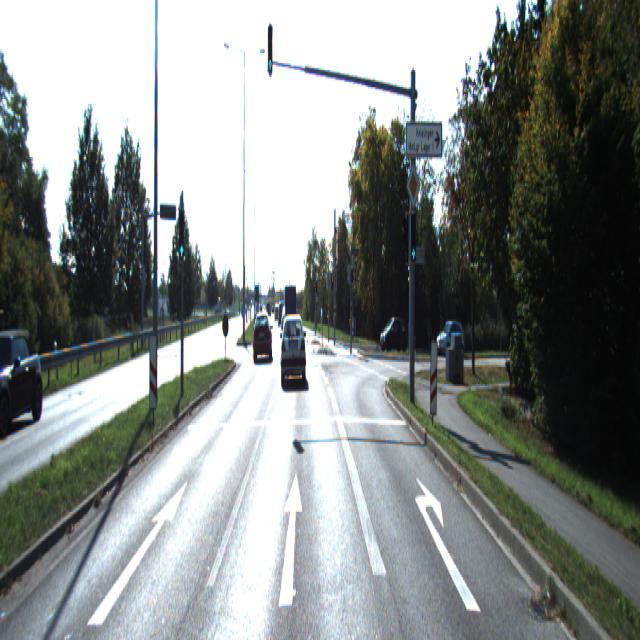Car: (0, 324, 44, 434), (282, 316, 307, 384), (436, 318, 466, 359), (252, 314, 274, 365), (380, 314, 407, 352)
Van: (284, 284, 298, 342)
